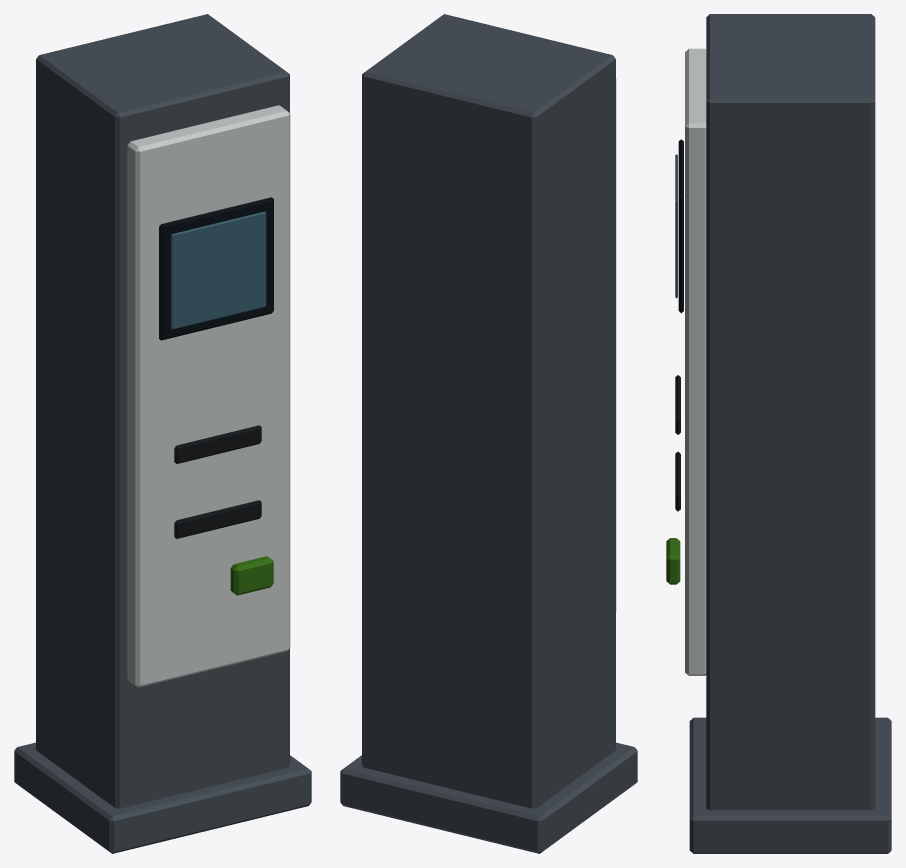
File: TicketTerminal.fbx
3 renders of one model, left to right at view 1: azimuth 30°, elevation 25°; view 2: azimuth 150°, elevation 25°; view 3: azimuth 270°, elevation 25°, orthographic. The views are drawn at different scales.
Parts seen in each view (by area): view 1: TicketTerminal; view 2: TicketTerminal; view 3: TicketTerminal.
Part boxes in pixels (bbox=[...]): TicketTerminal: bbox=[14, 14, 311, 853]; TicketTerminal: bbox=[340, 14, 637, 853]; TicketTerminal: bbox=[666, 14, 891, 853].
Bounding box in the file's own units: 51 × 176 × 48.
1 material, 1 textured.
